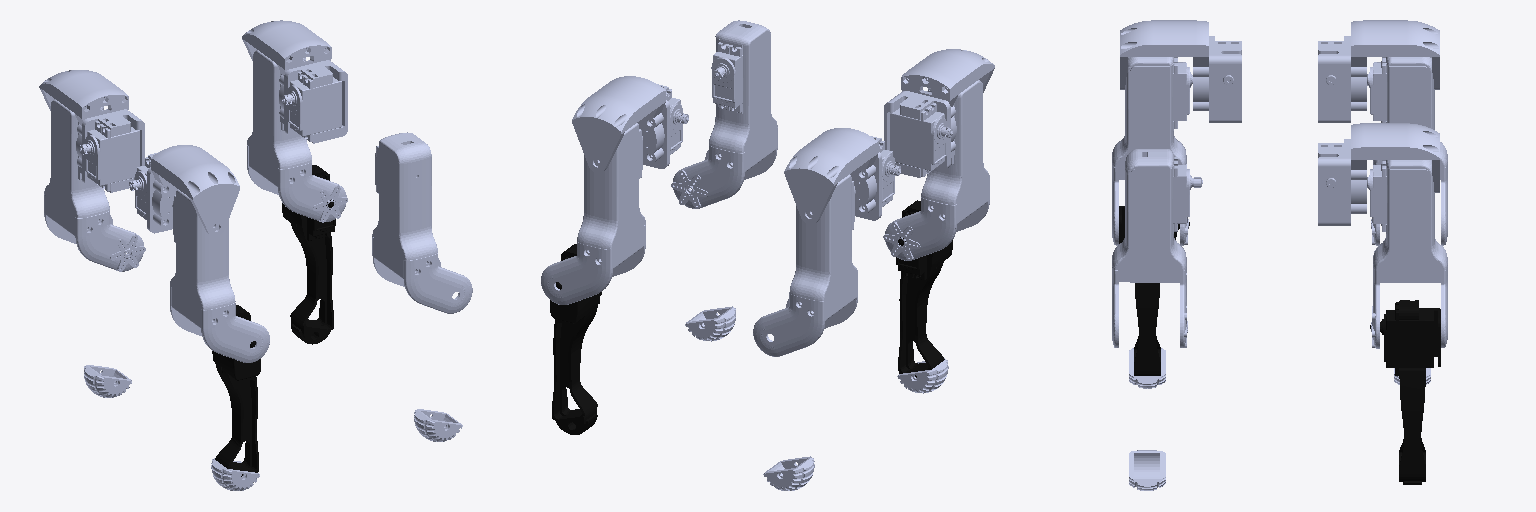
URDF robot description (friday_robot):
<?xml version="1.0" encoding="utf-8"?>
<!-- This URDF was automatically created by SolidWorks to URDF Exporter! Originally created by [author] ([email redacted]) 
     Commit Version: 1.6.0-4-g7f85cfe  Build Version: 1.6.7995.38578
     For more information, please see http://wiki.ros.org/sw_urdf_exporter -->
<robot
  name="friday_robot">
  <link
    name="base_link">
    <inertial>
      <origin
        xyz="0.0067678 -0.00099543 -0.0094041"
        rpy="0 0 0" />
      <mass
        value="0.5038" />
      <inertia
        ixx="0.00062863"
        ixy="9.3322E-07"
        ixz="-5.8508E-06"
        iyy="0.00057026"
        iyz="-4.0858E-07"
        izz="0.00087254" />
    </inertial>
    <visual>
      <origin
        xyz="0 0 0"
        rpy="0 0 0" />
      <geometry>
        <mesh
          filename="package://friday_robot/meshes/base_link.STL" />
      </geometry>
      <material
        name="">
        <color
          rgba="0.9098 0.67843 0.13725 1" />
      </material>
    </visual>
    <collision>
      <origin
        xyz="0 0 0"
        rpy="0 0 0" />
      <geometry>
        <mesh
          filename="package://friday_robot/meshes/base_link.STL" />
      </geometry>
    </collision>
  </link>
  <link
    name="fl_abad_link">
    <inertial>
      <origin
        xyz="0.0012078 0.00097058 -0.0069082"
        rpy="0 0 0" />
      <mass
        value="0.089265" />
      <inertia
        ixx="3.0721E-05"
        ixy="6.1399E-10"
        ixz="3.6535E-07"
        iyy="4.0211E-05"
        iyz="1.4431E-07"
        izz="1.628E-05" />
    </inertial>
    <visual>
      <origin
        xyz="0 0 0"
        rpy="0 0 0" />
      <geometry>
        <mesh
          filename="package://friday_robot/meshes/fl_abad_link.STL" />
      </geometry>
      <material
        name="">
        <color
          rgba="0.79216 0.81961 0.93333 1" />
      </material>
    </visual>
    <collision>
      <origin
        xyz="0 0 0"
        rpy="0 0 0" />
      <geometry>
        <mesh
          filename="package://friday_robot/meshes/fl_abad_link.STL" />
      </geometry>
    </collision>
  </link>
  <joint
    name="fl_abad_joint"
    type="revolute">
    <origin
      xyz="0.093784 0.039 0"
      rpy="0 0 0" />
    <parent
      link="base_link" />
    <child
      link="fl_abad_link" />
    <axis
      xyz="1 0 0" />
    <limit
      lower="-1.5"
      upper="1.5"
      effort="0"
      velocity="0" />
  </joint>
  <link
    name="fl_upper_leg_link">
    <inertial>
      <origin
        xyz="0.0016892 -0.002254 -0.039521"
        rpy="0 0 0" />
      <mass
        value="0.13978" />
      <inertia
        ixx="0.00010981"
        ixy="-1.5028E-06"
        ixz="-6.7166E-07"
        iyy="0.00010346"
        iyz="-9.6645E-07"
        izz="2.8421E-05" />
    </inertial>
    <visual>
      <origin
        xyz="0 0 0"
        rpy="0 0 0" />
      <geometry>
        <mesh
          filename="package://friday_robot/meshes/fl_upper_leg_link.STL" />
      </geometry>
      <material
        name="">
        <color
          rgba="0.79216 0.81961 0.93333 1" />
      </material>
    </visual>
    <collision>
      <origin
        xyz="0 0 0"
        rpy="0 0 0" />
      <geometry>
        <mesh
          filename="package://friday_robot/meshes/fl_upper_leg_link.STL" />
      </geometry>
    </collision>
  </link>
  <joint
    name="fl_hip_joint"
    type="revolute">
    <origin
      xyz="0 0.06015 -0.01025"
      rpy="0 0 0" />
    <parent
      link="fl_abad_link" />
    <child
      link="fl_upper_leg_link" />
    <axis
      xyz="0 1 0" />
    <limit
      lower="-1.5"
      upper="1.5"
      effort="0"
      velocity="0" />
  </joint>
  <link
    name="fl_lower_leg_link">
    <inertial>
      <origin
        xyz="-0.00068444 0.0013308 -0.029593"
        rpy="0 0 0" />
      <mass
        value="0.060883" />
      <inertia
        ixx="7.5625E-05"
        ixy="3.1107E-07"
        ixz="3.9385E-06"
        iyy="7.2962E-05"
        iyz="-3.0903E-06"
        izz="9.3716E-06" />
    </inertial>
    <visual>
      <origin
        xyz="0 0 0"
        rpy="0 0 0" />
      <geometry>
        <mesh
          filename="package://friday_robot/meshes/fl_lower_leg_link.STL" />
      </geometry>
      <material
        name="">
        <color
          rgba="0.098039 0.098039 0.098039 1" />
      </material>
    </visual>
    <collision>
      <origin
        xyz="0 0 0"
        rpy="0 0 0" />
      <geometry>
        <mesh
          filename="package://friday_robot/meshes/fl_lower_leg_link.STL" />
      </geometry>
    </collision>
  </link>
  <joint
    name="fl_knee_joint"
    type="revolute">
    <origin
      xyz="0.03 0 -0.107"
      rpy="0 0 0" />
    <parent
      link="fl_upper_leg_link" />
    <child
      link="fl_lower_leg_link" />
    <axis
      xyz="0 1 0" />
    <limit
      lower="-1.5"
      upper="1.5"
      effort="0"
      velocity="0" />
  </joint>
  <link
    name="fl_foot_link">
    <inertial>
      <origin
        xyz="-0.00268456051833178 3.34520542134842E-07 0.011345759540596"
        rpy="0 0 0" />
      <mass
        value="0.00827881665716705" />
      <inertia
        ixx="8.22036221200532E-07"
        ixy="-3.12294267863575E-12"
        ixz="2.06223465353849E-07"
        iyy="1.04877001633808E-06"
        iyz="-3.16711397785252E-12"
        izz="1.31417688803059E-06" />
    </inertial>
    <visual>
      <origin
        xyz="0 0 0"
        rpy="0 0 0" />
      <geometry>
        <mesh
          filename="package://friday_robot/meshes/fl_foot_link.STL" />
      </geometry>
      <material
        name="">
        <color
          rgba="0.792156862745098 0.819607843137255 0.933333333333333 1" />
      </material>
    </visual>
    <collision>
      <origin
        xyz="0 0 0"
        rpy="0 0 0" />
      <geometry>
        <mesh
          filename="package://friday_robot/meshes/fl_foot_link.STL" />
      </geometry>
    </collision>
  </link>
  <joint
    name="fl_ankle_joint"
    type="fixed">
    <origin
      xyz="-0.00045854 0.0016595 -0.13599"
      rpy="0 0 0" />
    <parent
      link="fl_lower_leg_link" />
    <child
      link="fl_foot_link" />
    <axis
      xyz="0 0 0" />
  </joint>
  <link
    name="fr_abad_link">
    <inertial>
      <origin
        xyz="0.000100804801752744 -0.00768686244926658 -0.00572309756879297"
        rpy="0 0 0" />
      <mass
        value="0.0710934661015296" />
      <inertia
        ixx="2.16837396661824E-05"
        ixy="-5.13092491322846E-07"
        ixz="2.67173869918524E-07"
        iyy="2.92711773680173E-05"
        iyz="-2.20334549485813E-08"
        izz="1.22638110482517E-05" />
    </inertial>
    <visual>
      <origin
        xyz="0 0 0"
        rpy="0 0 0" />
      <geometry>
        <mesh
          filename="package://friday_robot/meshes/fr_abad_link.STL" />
      </geometry>
      <material
        name="">
        <color
          rgba="0.792156862745098 0.819607843137255 0.933333333333333 1" />
      </material>
    </visual>
    <collision>
      <origin
        xyz="0 0 0"
        rpy="0 0 0" />
      <geometry>
        <mesh
          filename="package://friday_robot/meshes/fr_abad_link.STL" />
      </geometry>
    </collision>
  </link>
  <joint
    name="fr_abad_joint"
    type="revolute">
    <origin
      xyz="0.093784 -0.039 0"
      rpy="0 0 0" />
    <parent
      link="base_link" />
    <child
      link="fr_abad_link" />
    <axis
      xyz="1 0 0" />
    <limit
      lower="-1.5"
      upper="1.5"
      effort="0"
      velocity="0" />
  </joint>
  <link
    name="fr_upper_leg_linnk">
    <inertial>
      <origin
        xyz="0.0025972 0.00091552 -0.043088"
        rpy="0 0 0" />
      <mass
        value="0.24625" />
      <inertia
        ixx="0.00021105"
        ixy="-5.8956E-13"
        ixz="4.4955E-06"
        iyy="0.00020129"
        iyz="2.1283E-06"
        izz="5.171E-05" />
    </inertial>
    <visual>
      <origin
        xyz="0 0 0"
        rpy="0 0 0" />
      <geometry>
        <mesh
          filename="package://friday_robot/meshes/fr_upper_leg_linnk.STL" />
      </geometry>
      <material
        name="">
        <color
          rgba="0.79216 0.81961 0.93333 1" />
      </material>
    </visual>
    <collision>
      <origin
        xyz="0 0 0"
        rpy="0 0 0" />
      <geometry>
        <mesh
          filename="package://friday_robot/meshes/fr_upper_leg_linnk.STL" />
      </geometry>
    </collision>
  </link>
  <joint
    name="fr_hip_joint"
    type="revolute">
    <origin
      xyz="0 -0.06015 -0.01005"
      rpy="0 0 0" />
    <parent
      link="fr_abad_link" />
    <child
      link="fr_upper_leg_linnk" />
    <axis
      xyz="0 1 0" />
    <limit
      lower="-1.5"
      upper="1.5"
      effort="0"
      velocity="0" />
  </joint>
  <link
    name="fr_lower_leg_link">
    <inertial>
      <origin
        xyz="-0.00068446602124661 -0.00133084696142388 -0.029592973719876"
        rpy="0 0 0" />
      <mass
        value="0.0608832342298749" />
      <inertia
        ixx="7.56255610630119E-05"
        ixy="-3.11064157488279E-07"
        ixz="3.93850946693039E-06"
        iyy="7.29623913211003E-05"
        iyz="3.09026720482322E-06"
        izz="9.37165067008371E-06" />
    </inertial>
    <visual>
      <origin
        xyz="0 0 0"
        rpy="0 0 0" />
      <geometry>
        <mesh
          filename="package://friday_robot/meshes/fr_lower_leg_link.STL" />
      </geometry>
      <material
        name="">
        <color
          rgba="0.0980392156862745 0.0980392156862745 0.0980392156862745 1" />
      </material>
    </visual>
    <collision>
      <origin
        xyz="0 0 0"
        rpy="0 0 0" />
      <geometry>
        <mesh
          filename="package://friday_robot/meshes/fr_lower_leg_link.STL" />
      </geometry>
    </collision>
  </link>
  <joint
    name="fr_knee_joint"
    type="revolute">
    <origin
      xyz="0.03 0 -0.107"
      rpy="0 0 0" />
    <parent
      link="fr_upper_leg_linnk" />
    <child
      link="fr_lower_leg_link" />
    <axis
      xyz="0 1 0" />
    <limit
      lower="-1.5"
      upper="1.5"
      effort="0"
      velocity="0" />
  </joint>
  <link
    name="fr_foot_link">
    <inertial>
      <origin
        xyz="-0.0026845605183318 3.34520542100147E-07 0.0113457595405959"
        rpy="0 0 0" />
      <mass
        value="0.00827881665716705" />
      <inertia
        ixx="8.22036221200532E-07"
        ixy="-3.1229426786921E-12"
        ixz="2.06223465353849E-07"
        iyy="1.04877001633807E-06"
        iyz="-3.16711397780049E-12"
        izz="1.31417688803058E-06" />
    </inertial>
    <visual>
      <origin
        xyz="0 0 0"
        rpy="0 0 0" />
      <geometry>
        <mesh
          filename="package://friday_robot/meshes/fr_foot_link.STL" />
      </geometry>
      <material
        name="">
        <color
          rgba="0.792156862745098 0.819607843137255 0.933333333333333 1" />
      </material>
    </visual>
    <collision>
      <origin
        xyz="0 0 0"
        rpy="0 0 0" />
      <geometry>
        <mesh
          filename="package://friday_robot/meshes/fr_foot_link.STL" />
      </geometry>
    </collision>
  </link>
  <joint
    name="fr_ankle_joint"
    type="fixed">
    <origin
      xyz="-0.00045854 -0.0016595 -0.13599"
      rpy="0 0 0" />
    <parent
      link="fr_lower_leg_link" />
    <child
      link="fr_foot_link" />
    <axis
      xyz="0 0 0" />
  </joint>
  <link
    name="hr_abad_link">
    <inertial>
      <origin
        xyz="0.000100308272320632 -0.00768686894466022 -0.00572309756879935"
        rpy="0 0 0" />
      <mass
        value="0.0710934661015759" />
      <inertia
        ixx="2.16836734119059E-05"
        ixy="-5.12602380112022E-07"
        ixz="2.67172446122063E-07"
        iyy="2.92712436222949E-05"
        iyz="-2.20507128710183E-08"
        izz="1.22638110482607E-05" />
    </inertial>
    <visual>
      <origin
        xyz="0 0 0"
        rpy="0 0 0" />
      <geometry>
        <mesh
          filename="package://friday_robot/meshes/hr_abad_link.STL" />
      </geometry>
      <material
        name="">
        <color
          rgba="0.792156862745098 0.819607843137255 0.933333333333333 1" />
      </material>
    </visual>
    <collision>
      <origin
        xyz="0 0 0"
        rpy="0 0 0" />
      <geometry>
        <mesh
          filename="package://friday_robot/meshes/hr_abad_link.STL" />
      </geometry>
    </collision>
  </link>
  <joint
    name="hr_abad_joint"
    type="revolute">
    <origin
      xyz="-0.090715 -0.039 0"
      rpy="0 0 0" />
    <parent
      link="base_link" />
    <child
      link="hr_abad_link" />
    <axis
      xyz="1 0 0" />
    <limit
      lower="-1.5"
      upper="1.5"
      effort="0"
      velocity="0" />
  </joint>
  <link
    name="hr_upper_leg_link">
    <inertial>
      <origin
        xyz="0.00259724502217444 0.000809047775928828 -0.0430878024421885"
        rpy="0 0 0" />
      <mass
        value="0.246251887843439" />
      <inertia
        ixx="0.000211052742715009"
        ixy="-9.72639899823502E-13"
        ixz="4.4954855470395E-06"
        iyy="0.000201293863856898"
        iyz="2.12832092364886E-06"
        izz="5.17101630303781E-05" />
    </inertial>
    <visual>
      <origin
        xyz="0 0 0"
        rpy="0 0 0" />
      <geometry>
        <mesh
          filename="package://friday_robot/meshes/hr_upper_leg_link.STL" />
      </geometry>
      <material
        name="">
        <color
          rgba="0.792156862745098 0.819607843137255 0.933333333333333 1" />
      </material>
    </visual>
    <collision>
      <origin
        xyz="0 0 0"
        rpy="0 0 0" />
      <geometry>
        <mesh
          filename="package://friday_robot/meshes/hr_upper_leg_link.STL" />
      </geometry>
    </collision>
  </link>
  <joint
    name="hr_hip_joint"
    type="revolute">
    <origin
      xyz="0 -0.060025 -0.01005"
      rpy="0 0 0" />
    <parent
      link="hr_abad_link" />
    <child
      link="hr_upper_leg_link" />
    <axis
      xyz="0 1 0" />
    <limit
      lower="-1.5"
      upper="1.5"
      effort="0"
      velocity="0" />
  </joint>
  <link
    name="hr_lower_leg_link">
    <inertial>
      <origin
        xyz="-0.000684466152534924 -0.00120584717375838 -0.0295929737504189"
        rpy="0 0 0" />
      <mass
        value="0.0608832342299194" />
      <inertia
        ixx="7.56255610658338E-05"
        ixy="-3.1106421272234E-07"
        ixz="3.93850946067176E-06"
        iyy="7.29623913211001E-05"
        iyz="3.09026750236869E-06"
        izz="9.37165066726873E-06" />
    </inertial>
    <visual>
      <origin
        xyz="0 0 0"
        rpy="0 0 0" />
      <geometry>
        <mesh
          filename="package://friday_robot/meshes/hr_lower_leg_link.STL" />
      </geometry>
      <material
        name="">
        <color
          rgba="0.0980392156862745 0.0980392156862745 0.0980392156862745 1" />
      </material>
    </visual>
    <collision>
      <origin
        xyz="0 0 0"
        rpy="0 0 0" />
      <geometry>
        <mesh
          filename="package://friday_robot/meshes/hr_lower_leg_link.STL" />
      </geometry>
    </collision>
  </link>
  <joint
    name="hr_knee_joint"
    type="revolute">
    <origin
      xyz="0.03 0 -0.107"
      rpy="0 0 0" />
    <parent
      link="hr_upper_leg_link" />
    <child
      link="hr_lower_leg_link" />
    <axis
      xyz="0 1 0" />
    <limit
      lower="-1.5"
      upper="1.5"
      effort="0"
      velocity="0" />
  </joint>
  <link
    name="hr_foot_link">
    <inertial>
      <origin
        xyz="-0.00268456051833096 3.34520542100147E-07 0.0113457595405904"
        rpy="0 0 0" />
      <mass
        value="0.00827881665716704" />
      <inertia
        ixx="8.22036221200533E-07"
        ixy="-3.12294267959481E-12"
        ixz="2.06223465353849E-07"
        iyy="1.04877001633807E-06"
        iyz="-3.16711397726354E-12"
        izz="1.31417688803059E-06" />
    </inertial>
    <visual>
      <origin
        xyz="0 0 0"
        rpy="0 0 0" />
      <geometry>
        <mesh
          filename="package://friday_robot/meshes/hr_foot_link.STL" />
      </geometry>
      <material
        name="">
        <color
          rgba="0.792156862745098 0.819607843137255 0.933333333333333 1" />
      </material>
    </visual>
    <collision>
      <origin
        xyz="0 0 0"
        rpy="0 0 0" />
      <geometry>
        <mesh
          filename="package://friday_robot/meshes/hr_foot_link.STL" />
      </geometry>
    </collision>
  </link>
  <joint
    name="hr_ankle_joint"
    type="fixed">
    <origin
      xyz="-0.00045854 -0.0015345 -0.13599"
      rpy="0 0 0" />
    <parent
      link="hr_lower_leg_link" />
    <child
      link="hr_foot_link" />
    <axis
      xyz="0 0 0" />
  </joint>
  <link
    name="hl_abad_link">
    <inertial>
      <origin
        xyz="0.00120777765743818 0.000970661413346577 -0.00678019795796969"
        rpy="0 0 0" />
      <mass
        value="0.0892651030828233" />
      <inertia
        ixx="3.07213595919651E-05"
        ixy="-1.4613115515713E-12"
        ixz="3.65337843088021E-07"
        iyy="4.02109825847124E-05"
        iyz="1.44335870495851E-07"
        izz="1.62795585629666E-05" />
    </inertial>
    <visual>
      <origin
        xyz="0 0 0"
        rpy="0 0 0" />
      <geometry>
        <mesh
          filename="package://friday_robot/meshes/hl_abad_link.STL" />
      </geometry>
      <material
        name="">
        <color
          rgba="0.792156862745098 0.819607843137255 0.933333333333333 1" />
      </material>
    </visual>
    <collision>
      <origin
        xyz="0 0 0"
        rpy="0 0 0" />
      <geometry>
        <mesh
          filename="package://friday_robot/meshes/hl_abad_link.STL" />
      </geometry>
    </collision>
  </link>
  <joint
    name="hl_abad_joint"
    type="revolute">
    <origin
      xyz="-0.090715 0.039 0"
      rpy="0 0 0" />
    <parent
      link="base_link" />
    <child
      link="hl_abad_link" />
    <axis
      xyz="1 0 0" />
    <limit
      lower="-1.5"
      upper="1.5"
      effort="0"
      velocity="0" />
  </joint>
  <link
    name="hl_upper_leg_linnk">
    <inertial>
      <origin
        xyz="0.00168915447041158 -0.00225396606205499 -0.0395211076508124"
        rpy="0 0 0" />
      <mass
        value="0.139780014938308" />
      <inertia
        ixx="0.000109810306663954"
        ixy="-1.50279269981787E-06"
        ixz="-6.71658677153372E-07"
        iyy="0.000103459683396638"
        iyz="-9.66447756313517E-07"
        izz="2.8420673207803E-05" />
    </inertial>
    <visual>
      <origin
        xyz="0 0 0"
        rpy="0 0 0" />
      <geometry>
        <mesh
          filename="package://friday_robot/meshes/hl_upper_leg_linnk.STL" />
      </geometry>
      <material
        name="">
        <color
          rgba="0.792156862745098 0.819607843137255 0.933333333333333 1" />
      </material>
    </visual>
    <collision>
      <origin
        xyz="0 0 0"
        rpy="0 0 0" />
      <geometry>
        <mesh
          filename="package://friday_robot/meshes/hl_upper_leg_linnk.STL" />
      </geometry>
    </collision>
  </link>
  <joint
    name="hl_hip_joint"
    type="revolute">
    <origin
      xyz="0 0.06015 -0.01005"
      rpy="0 0 0" />
    <parent
      link="hl_abad_link" />
    <child
      link="hl_upper_leg_linnk" />
    <axis
      xyz="0 1 0" />
    <limit
      lower="-1.5"
      upper="1.5"
      effort="0"
      velocity="0" />
  </joint>
  <link
    name="hl_lower_leg_link">
    <inertial>
      <origin
        xyz="-0.000684437633580115 0.00133084764717366 -0.0295930592825451"
        rpy="0 0 0" />
      <mass
        value="0.0608832511150628" />
      <inertia
        ixx="7.56254687110168E-05"
        ixy="3.11067704123536E-07"
        ixz="3.93848857198344E-06"
        iyy="7.29622948511221E-05"
        iyz="-3.09027756281844E-06"
        izz="9.37164799604582E-06" />
    </inertial>
    <visual>
      <origin
        xyz="0 0 0"
        rpy="0 0 0" />
      <geometry>
        <mesh
          filename="package://friday_robot/meshes/hl_lower_leg_link.STL" />
      </geometry>
      <material
        name="">
        <color
          rgba="0.0980392156862745 0.0980392156862745 0.0980392156862745 1" />
      </material>
    </visual>
    <collision>
      <origin
        xyz="0 0 0"
        rpy="0 0 0" />
      <geometry>
        <mesh
          filename="package://friday_robot/meshes/hl_lower_leg_link.STL" />
      </geometry>
    </collision>
  </link>
  <joint
    name="hl_knee_joint"
    type="revolute">
    <origin
      xyz="0.03 0 -0.107"
      rpy="0 0 0" />
    <parent
      link="hl_upper_leg_linnk" />
    <child
      link="hl_lower_leg_link" />
    <axis
      xyz="0 1 0" />
    <limit
      lower="-1.5"
      upper="1.5"
      effort="0"
      velocity="0" />
  </joint>
  <link
    name="hl_foot_link">
    <inertial>
      <origin
        xyz="-0.00268456051833151 3.3452054221117E-07 0.0113457595405927"
        rpy="0 0 0" />
      <mass
        value="0.00827881665716705" />
      <inertia
        ixx="8.22036221200533E-07"
        ixy="-3.12294267891755E-12"
        ixz="2.06223465353849E-07"
        iyy="1.04877001633807E-06"
        iyz="-3.16711397746052E-12"
        izz="1.31417688803059E-06" />
    </inertial>
    <visual>
      <origin
        xyz="0 0 0"
        rpy="0 0 0" />
      <geometry>
        <mesh
          filename="package://friday_robot/meshes/hl_foot_link.STL" />
      </geometry>
      <material
        name="">
        <color
          rgba="0.792156862745098 0.819607843137255 0.933333333333333 1" />
      </material>
    </visual>
    <collision>
      <origin
        xyz="0 0 0"
        rpy="0 0 0" />
      <geometry>
        <mesh
          filename="package://friday_robot/meshes/hl_foot_link.STL" />
      </geometry>
    </collision>
  </link>
  <joint
    name="hl_ankle_joint"
    type="fixed">
    <origin
      xyz="-0.00045855 0.0016595 -0.13599"
      rpy="0 0 0" />
    <parent
      link="hl_lower_leg_link" />
    <child
      link="hl_foot_link" />
    <axis
      xyz="0 0 0" />
  </joint>
</robot>

--- What the picture shows (computed from the rendered views, not written in the file) ---
3 views of the same robot in one strip: view 1: azimuth 30°, elevation 25°; view 2: azimuth 150°, elevation 25°; view 3: azimuth 270°, elevation 25° (orthographic).
Robot: friday_robot — 17 links, 16 joints (12 revolute, 4 fixed); root link base_link; default pose: all joints at 0.
Links seen in each view (by area): view 1: fr_upper_leg_linnk, hr_upper_leg_link, fl_abad_link, hl_upper_leg_linnk, hl_abad_link, fl_upper_leg_link, hr_abad_link, fl_lower_leg_link, hr_lower_leg_link, hl_foot_link, fr_foot_link, hr_foot_link; view 2: fr_upper_leg_linnk, hl_upper_leg_linnk, fl_upper_leg_link, hr_abad_link, hr_upper_leg_link, fl_abad_link, hl_abad_link, fl_lower_leg_link, hr_lower_leg_link, fr_foot_link, hl_foot_link, hr_foot_link; view 3: fr_upper_leg_linnk, fl_upper_leg_link, fl_abad_link, hl_abad_link, hr_abad_link, hr_upper_leg_link, fl_lower_leg_link, hl_upper_leg_linnk, hr_lower_leg_link, fr_foot_link, hr_foot_link.
Boxes of the visible links, box(x1,y1,x2,y2) form: fr_upper_leg_linnk: box(372, 132, 472, 313); hr_upper_leg_link: box(170, 189, 269, 362); fl_abad_link: box(242, 20, 347, 143); hl_upper_leg_linnk: box(44, 99, 145, 271); hl_abad_link: box(39, 70, 144, 192); fl_upper_leg_link: box(247, 50, 347, 222); hr_abad_link: box(129, 145, 239, 236); fl_lower_leg_link: box(282, 165, 335, 344); hr_lower_leg_link: box(212, 305, 260, 476); hl_foot_link: box(84, 365, 131, 397); fr_foot_link: box(414, 409, 462, 441); hr_foot_link: box(211, 458, 259, 490); fr_upper_leg_linnk: box(671, 20, 777, 208); hl_upper_leg_linnk: box(753, 174, 857, 356); fl_upper_leg_link: box(541, 123, 645, 304); hr_abad_link: box(884, 49, 994, 177); hr_upper_leg_link: box(883, 80, 989, 260); fl_abad_link: box(572, 76, 688, 172); hl_abad_link: box(784, 128, 900, 224); fl_lower_leg_link: box(550, 244, 601, 434); hr_lower_leg_link: box(896, 200, 952, 377); fr_foot_link: box(685, 306, 735, 341); hl_foot_link: box(763, 456, 814, 490); hr_foot_link: box(897, 358, 948, 393); fr_upper_leg_linnk: box(1112, 149, 1202, 347); fl_upper_leg_link: box(1367, 160, 1447, 348); fl_abad_link: box(1318, 123, 1439, 225); hl_abad_link: box(1318, 20, 1439, 122); hr_abad_link: box(1120, 20, 1241, 122); hr_upper_leg_link: box(1112, 57, 1192, 245); fl_lower_leg_link: box(1370, 300, 1440, 484); hl_upper_leg_linnk: box(1367, 57, 1447, 245); hr_lower_leg_link: box(1119, 206, 1189, 375); fr_foot_link: box(1129, 450, 1165, 490); hr_foot_link: box(1129, 348, 1165, 388).
Size in the robot's own frame: 0.2638 by 0.2552 by 0.288 metres.
Meshes: 17 distinct files referenced, 12 mesh visuals loaded (12 binary STL); not drawn: 4 (reference not matched to a file when rendering), 1 (file found but could not be loaded).
